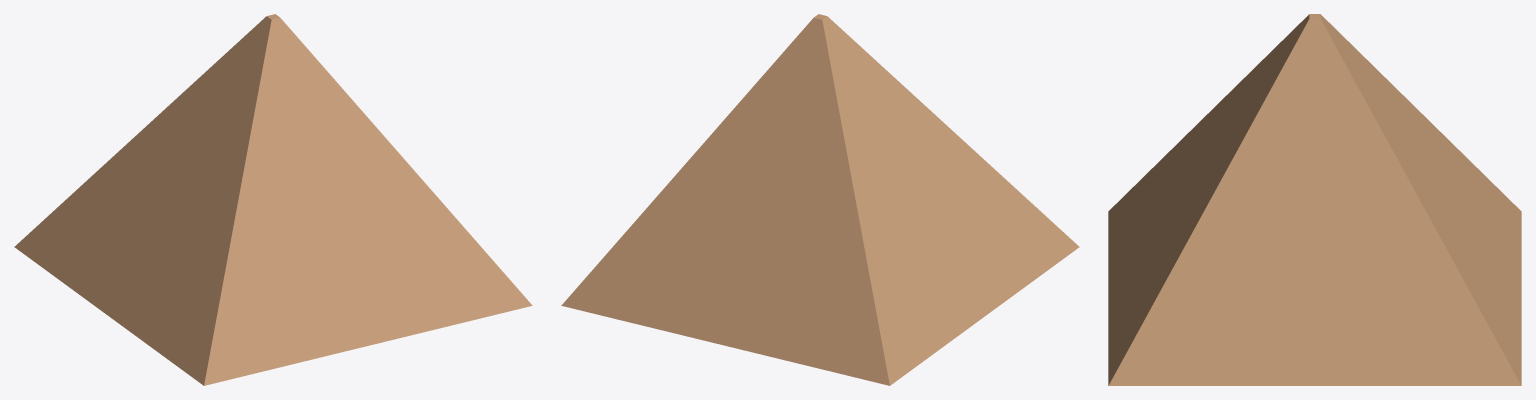
The model's file is tent.glb.
3 views of the same model, side by side, from view 1: azimuth 30°, elevation 25°; view 2: azimuth 150°, elevation 25°; view 3: azimuth 270°, elevation 25° (orthographic). The views are drawn at different scales.
Parts seen in each view (by area): view 1: tent; view 2: tent; view 3: tent.
Boxes of the visible parts, x1,y1,x2,y2 form: tent: [14, 14, 532, 385]; tent: [561, 14, 1079, 385]; tent: [1108, 14, 1521, 385].
Size of the model in its own units: 2.12 by 1.6 by 2.12.
